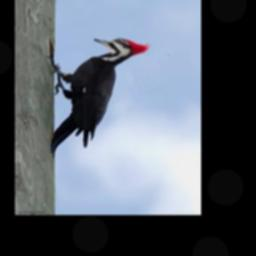Woodpecker: (47, 37, 150, 157)
